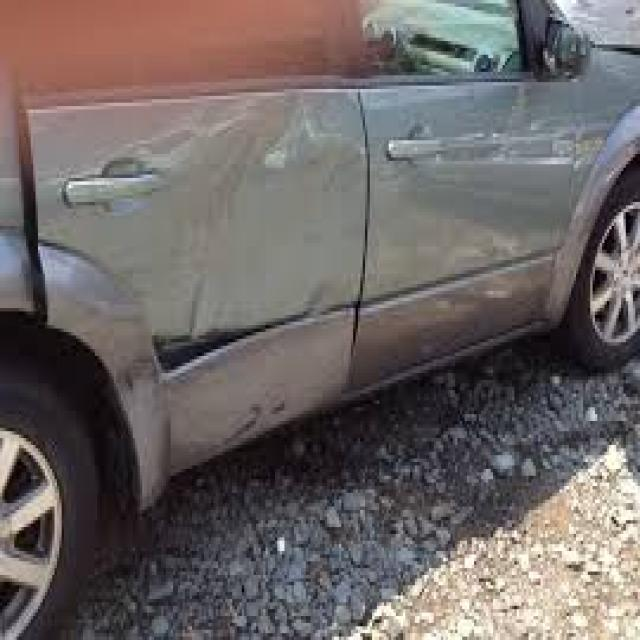minor: (105, 256, 382, 415)
